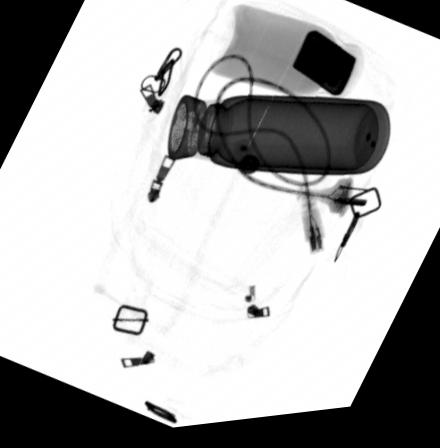Lighter: (291, 38, 356, 105)
